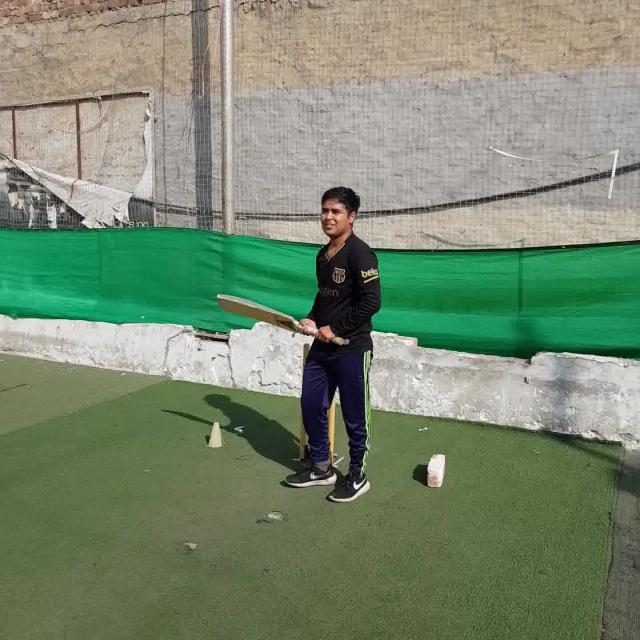bat: (217, 294, 345, 345)
